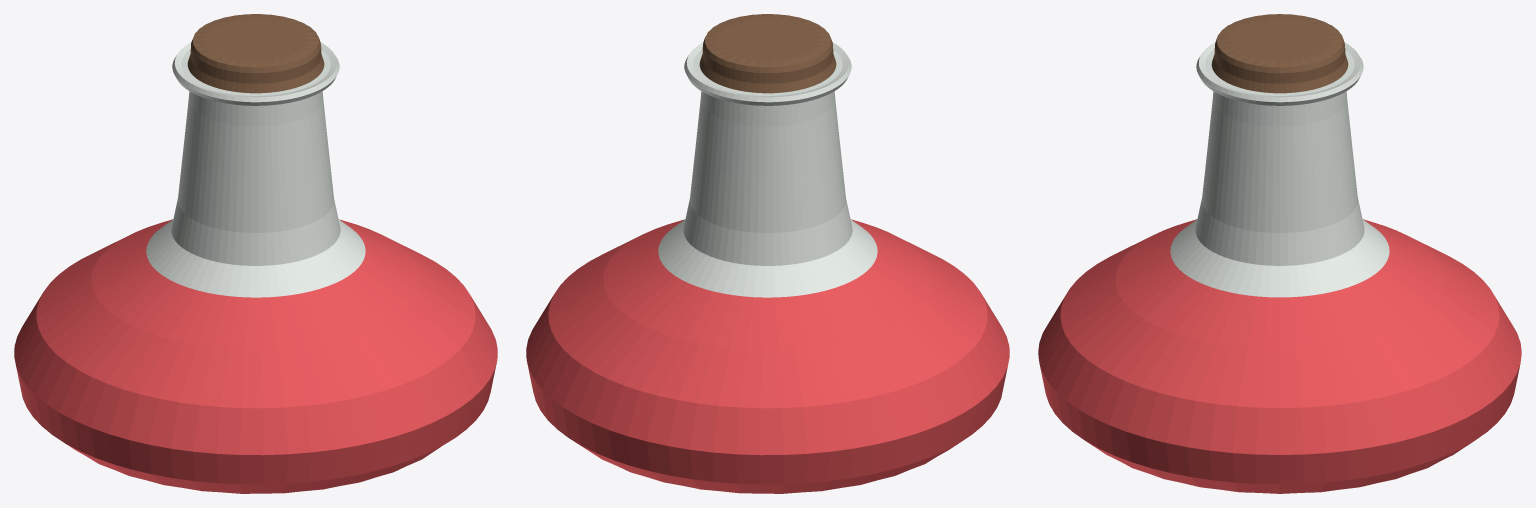
File: PotionRedTemp.fbx
3 renders of one model, left to right at view 1: azimuth 30°, elevation 25°; view 2: azimuth 150°, elevation 25°; view 3: azimuth 270°, elevation 25°, orthographic.
Parts seen in each view (by area): view 1: Cylinder; view 2: Cylinder; view 3: Cylinder.
Part boxes in pixels (box(x1,y1,x2,y2)): Cylinder: box(14, 14, 497, 493); Cylinder: box(526, 14, 1009, 493); Cylinder: box(1038, 14, 1521, 493).
Bounding box in the file's own units: 337 × 294 × 337.
